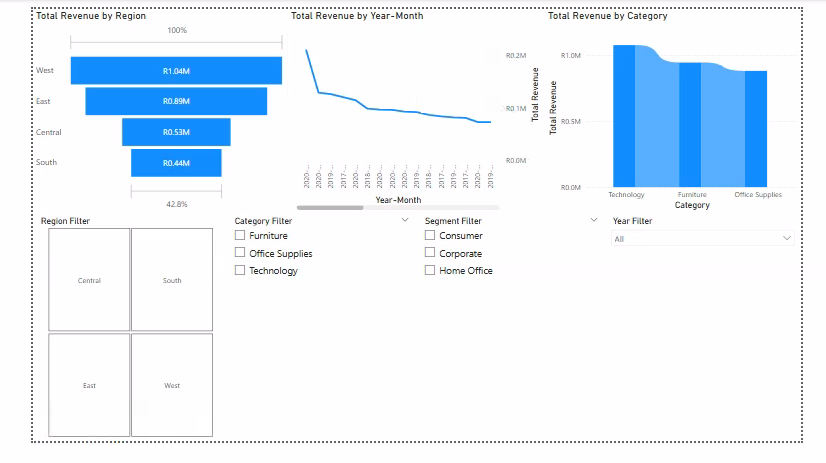

Layout of this report page (visuals, bound fields, positions):
{"tool":"powerbi","page":{"name":"Sales","canvas":[1280,720],"ordinal":1},"visuals":[{"type":"funnel","fields":{"Category":["Orders.Region"],"Y":["Orders.Total Revenue"]},"box":[0,0,425,340],"z":0},{"type":"ribbonChart","fields":{"Category":["Orders.Category"],"Y":["Orders.Total Revenue"]},"box":[854,0,426,340],"z":1000},{"type":"lineChart","fields":{"Category":["Orders.Year-Month"],"Y2":["Orders.Total Revenue"]},"box":[425,0,423.3,340],"z":2000},{"type":"slicer","fields":{"Values":["Orders.Region"]},"box":[0,340,324,380],"z":3000},{"type":"slicer","fields":{"Values":["Orders.Category"]},"box":[324,340,316,380],"z":4000},{"type":"slicer","fields":{"Values":["Orders.Segment"]},"box":[640,340,314,380],"z":5000},{"type":"slicer","fields":{"Values":["Orders.Year"]},"box":[954,340,326,380],"z":6000}]}

Visuals, with their boxes in screenshot pixels (x1, y1, x2, y2), scaled from the page's 1280x720 canvas onto the 826x463 screenshot:
funnel - Orders.Region x Orders.Total Revenue: {"left": 0, "top": 0, "right": 274, "bottom": 219}
ribbonChart - Orders.Category x Orders.Total Revenue: {"left": 551, "top": 0, "right": 825, "bottom": 219}
lineChart - Orders.Year-Month x Orders.Total Revenue: {"left": 274, "top": 0, "right": 547, "bottom": 219}
slicer - Orders.Region: {"left": 0, "top": 219, "right": 209, "bottom": 462}
slicer - Orders.Category: {"left": 209, "top": 219, "right": 413, "bottom": 462}
slicer - Orders.Segment: {"left": 413, "top": 219, "right": 616, "bottom": 462}
slicer - Orders.Year: {"left": 616, "top": 219, "right": 825, "bottom": 462}
